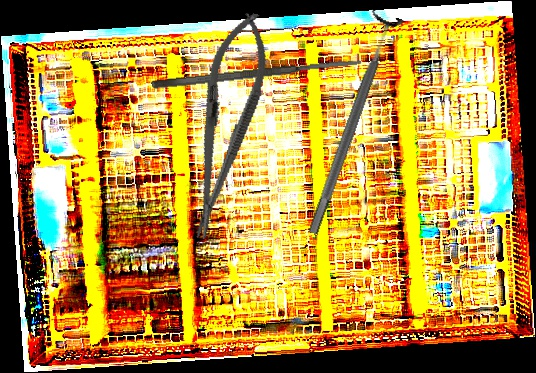Fixation Ring: (294, 8, 407, 240)
Needle Holder: (171, 6, 280, 245)
Spatula Surgical: (151, 56, 364, 91)
